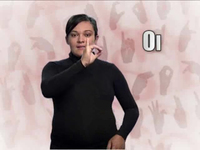oi: (81, 38, 103, 63)
